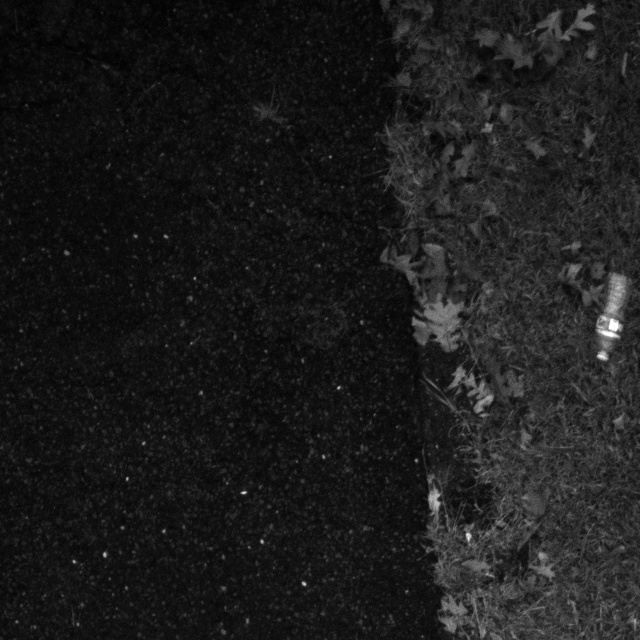bottle: (576, 264, 638, 369)
